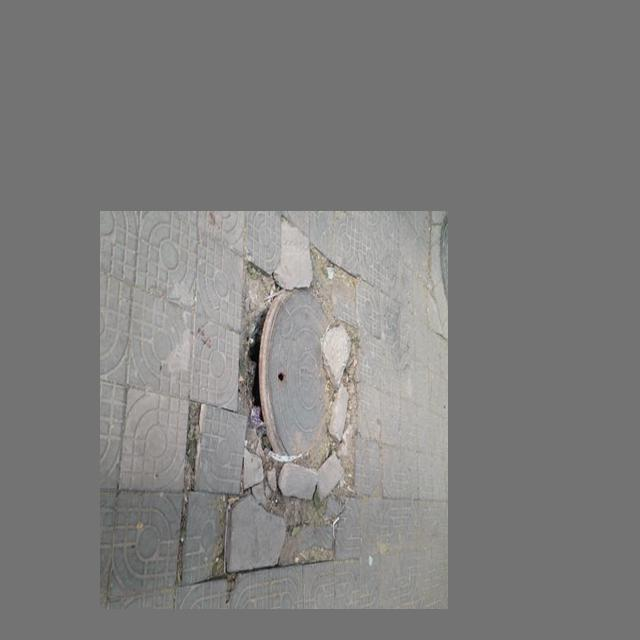circle: (225, 261, 361, 576)
